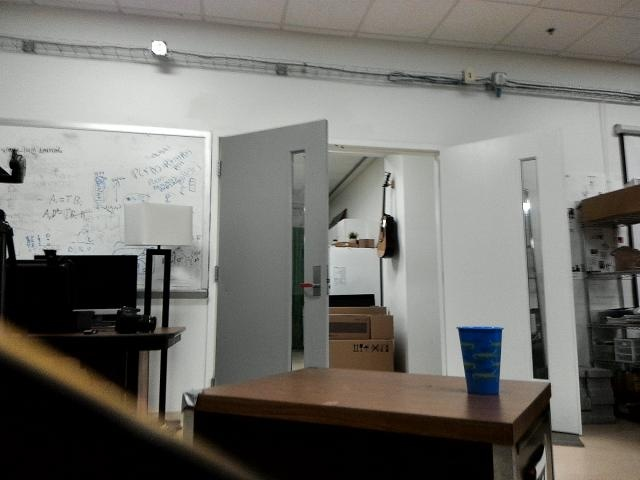water_cup: (452, 323, 508, 399)
